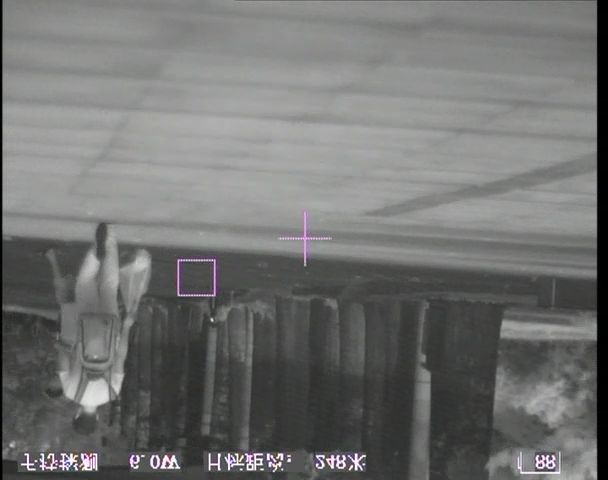my: (209, 316, 217, 325)
